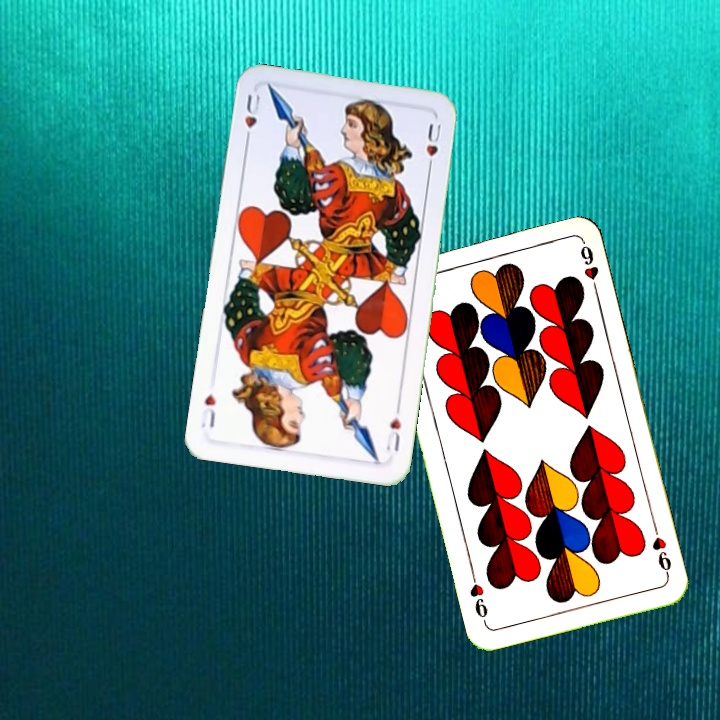H9: (648, 521, 674, 579)
HU: (240, 89, 263, 147), (381, 401, 404, 454)
